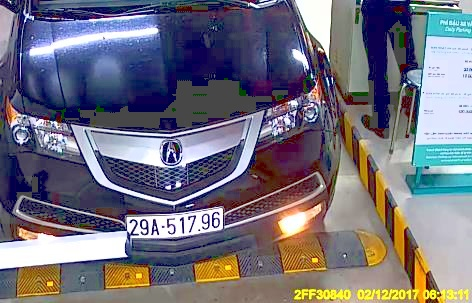plate: (118, 208, 229, 239)
